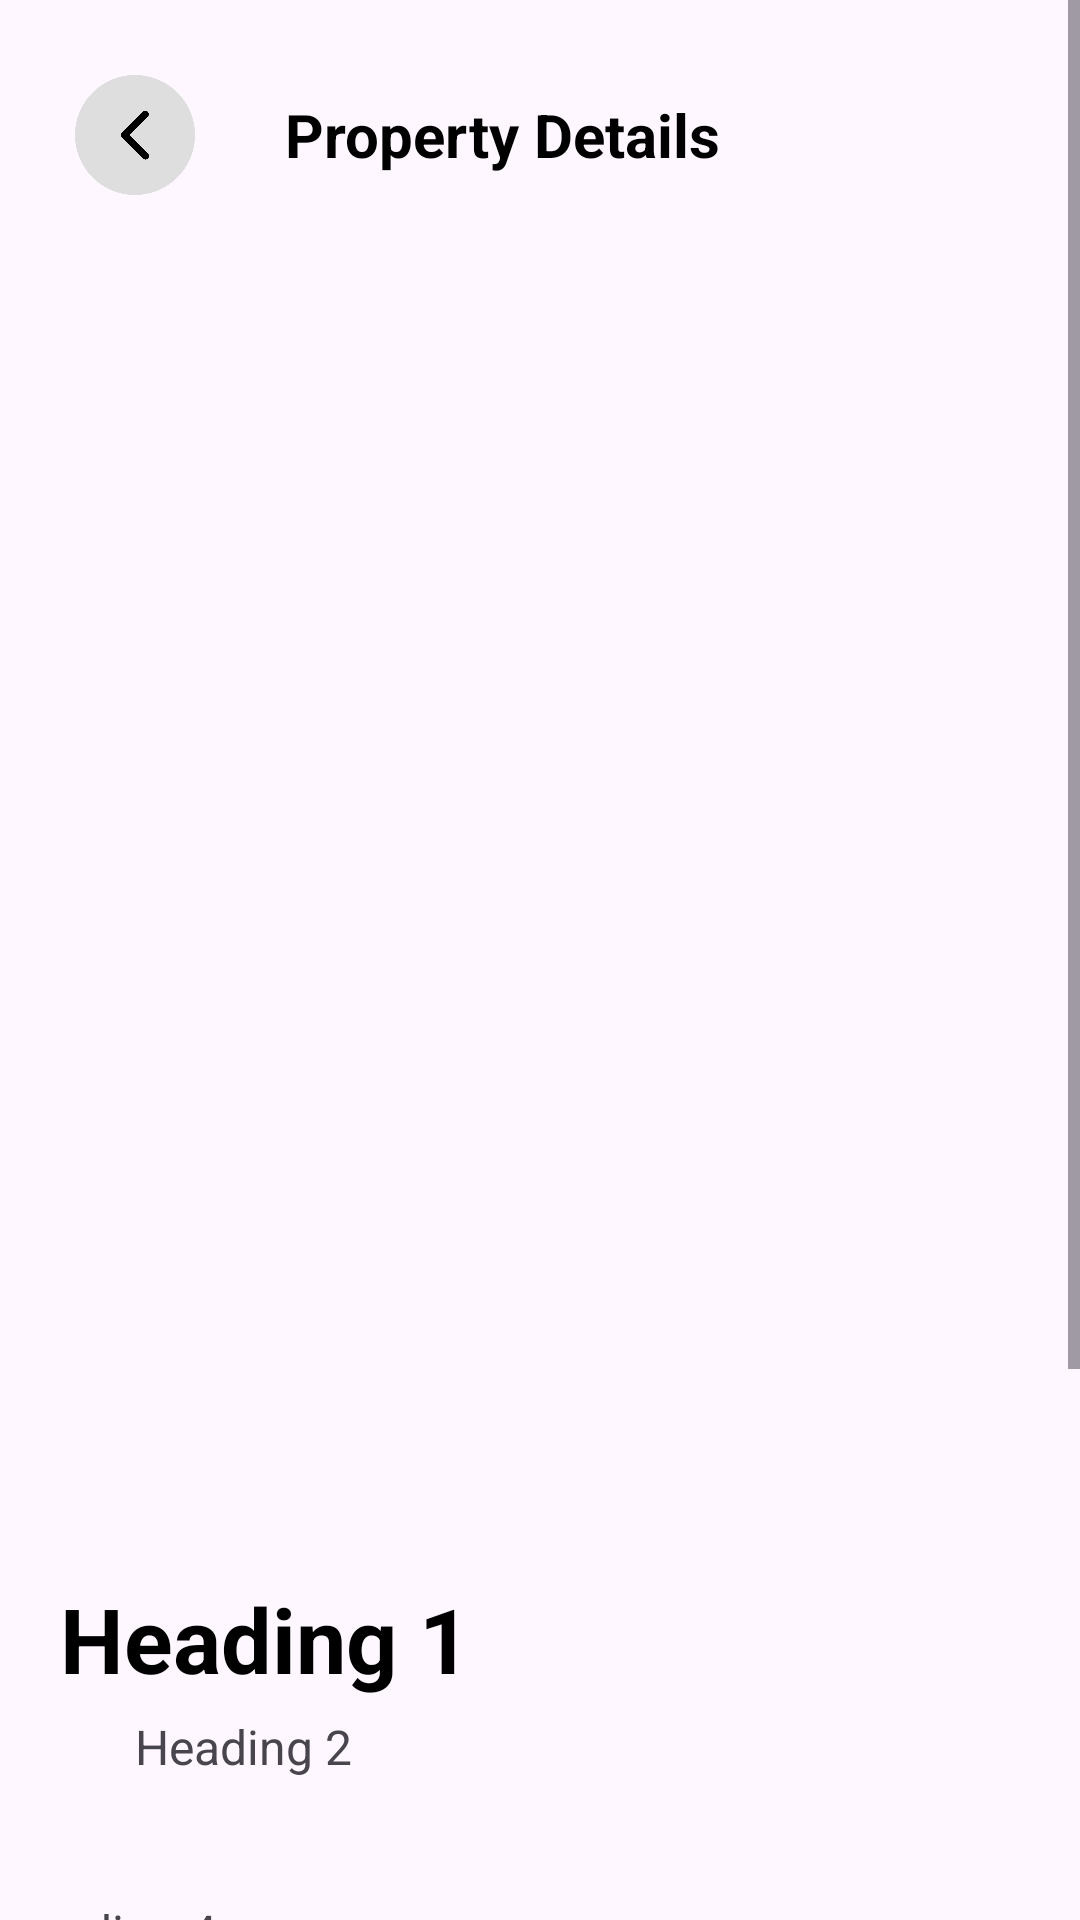

Where to tap for icons on this 1080 × 1920 app screen, as (x=x, y=y):
lefttt: (x=135, y=135)
